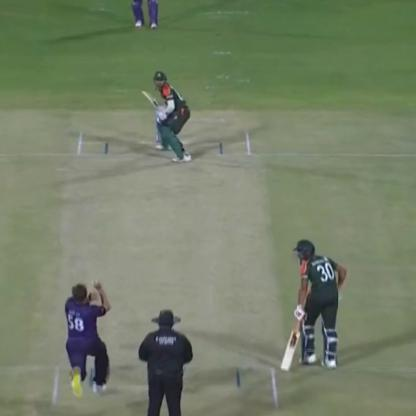ball: (87, 277, 101, 288)
bat: (278, 309, 308, 375), (137, 84, 172, 121)
pitch: (50, 128, 285, 416)
